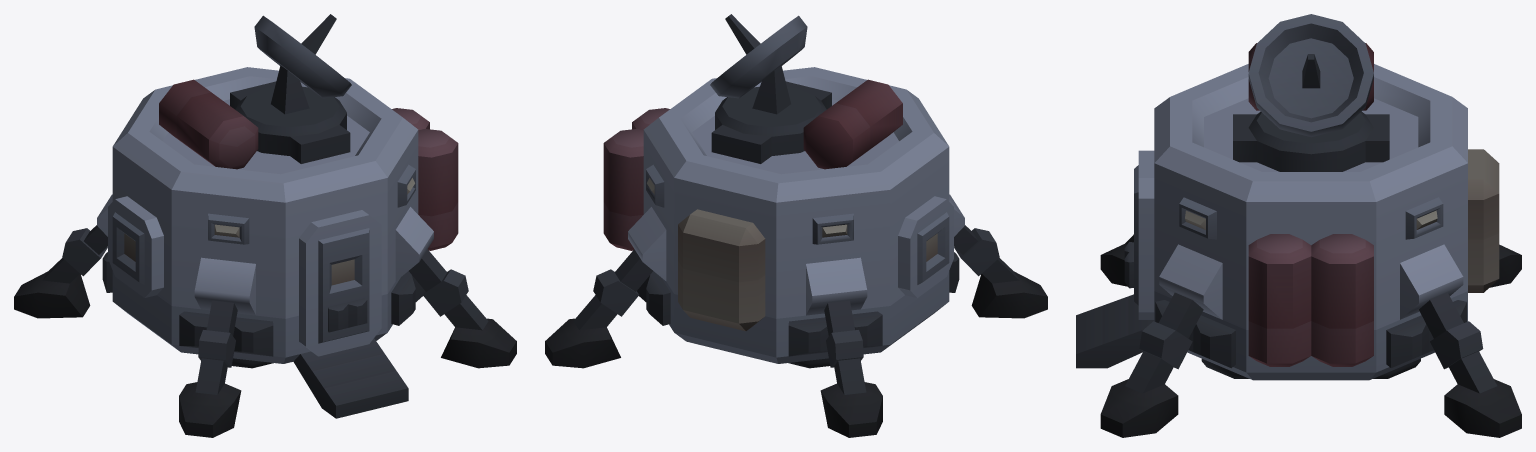
Rendered from lander_A.glb.
3 renders of one model, left to right at view 1: azimuth 30°, elevation 25°; view 2: azimuth 150°, elevation 25°; view 3: azimuth 270°, elevation 25°, orthographic. The views are drawn at different scales.
Parts seen in each view (by area): view 1: lander_A; view 2: lander_A; view 3: lander_A.
Part boxes in pixels (bbox=[...]): lander_A: bbox=[14, 14, 516, 437]; lander_A: bbox=[545, 14, 1047, 437]; lander_A: bbox=[1076, 14, 1521, 437].
Bounding box in the file's own units: 1.37 × 1.19 × 1.42.
1 material, 1 textured.
